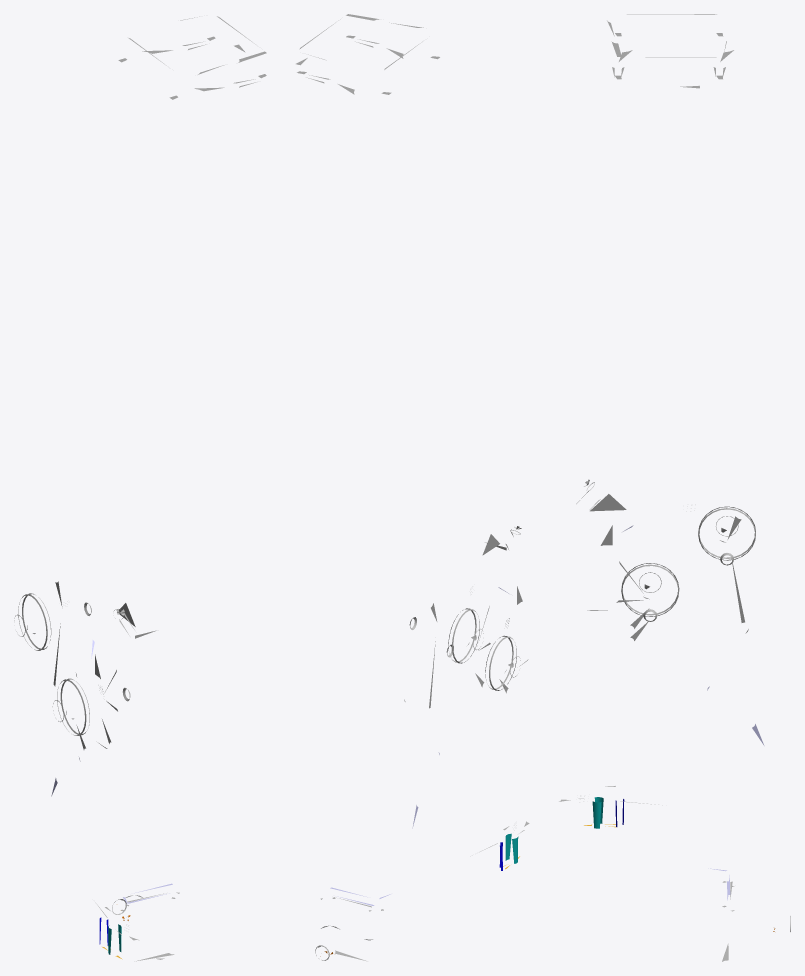
3 views of the same model, side by side, from view 1: azimuth 30°, elevation 25°; view 2: azimuth 150°, elevation 25°; view 3: azimuth 270°, elevation 25° (orthographic). The views are drawn at different scales.
Parts seen in each view (by area): view 1: F19721000063102000128_001_zb_ub_auflage_28_fa (×2); view 2: F19721000063102000128_001_zb_ub_auflage_28_fa (×2); view 3: F19721000063102000128_001_zb_ub_auflage_28_fa (×2).
Part boxes in pixels (bbox=[...]): F19721000063102000128_001_zb_ub_auflage_28_fa (×2): bbox=[14, 16, 266, 961]; F19721000063102000128_001_zb_ub_auflage_28_fa (×2): bbox=[296, 14, 529, 961]; F19721000063102000128_001_zb_ub_auflage_28_fa (×2): bbox=[559, 14, 790, 961].
Size of the model in its own units: 163 by 161 by 703.
